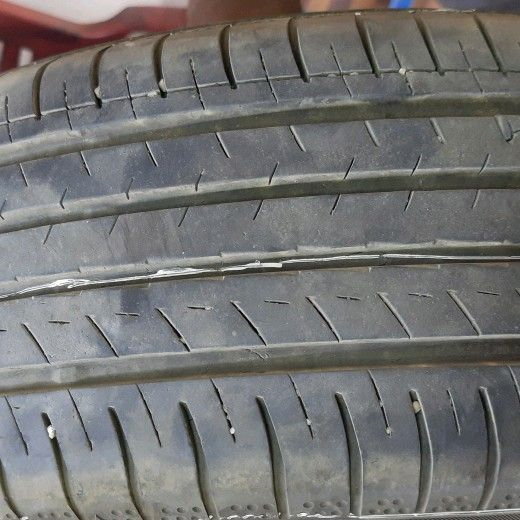tr: (241, 346, 277, 369)
